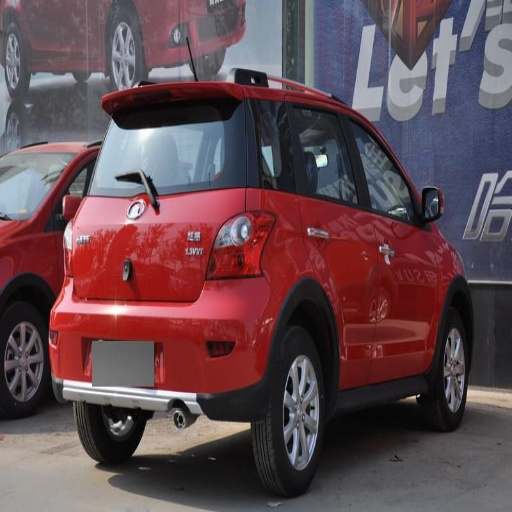back_bumper: (184, 275, 284, 380), (69, 340, 167, 393)
back_right_door: (272, 100, 380, 380)
back_right_light: (211, 212, 274, 277)
trunk: (59, 191, 243, 374)
